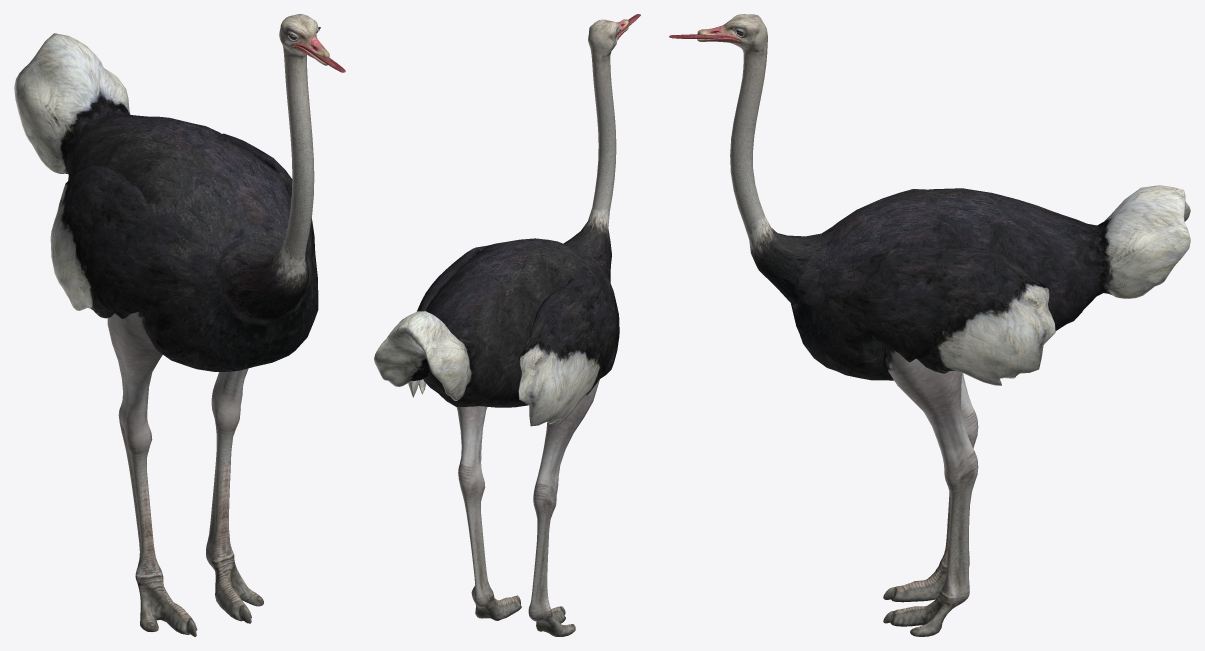
File: avestruz.obj
The picture shows the model from 3 angles, left to right: view 1: azimuth 30°, elevation 25°; view 2: azimuth 150°, elevation 25°; view 3: azimuth 270°, elevation 25°; orthographic projection. The views are drawn at different scales.
Visible parts, largest first — view 1: default; view 2: default; view 3: default.
Part boxes in pixels (x1,y1,x2,y2): default: [14, 14, 345, 636]; default: [374, 14, 640, 636]; default: [669, 14, 1190, 636].
Size of the model in its own units: 12.73 by 39.18 by 31.17.
1 material, 1 textured.
